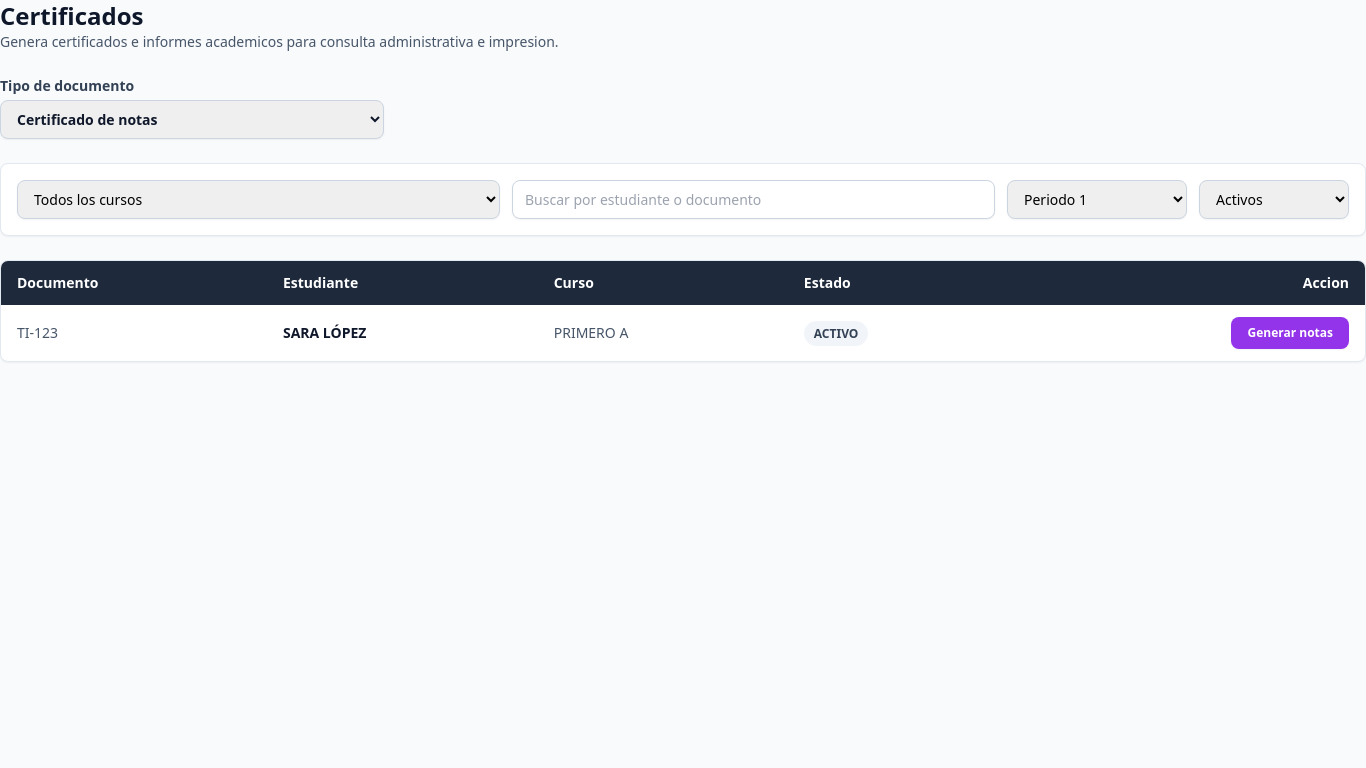
Certificados mirando otro año › el reporte parcial es de ese año; la asistencia parte de la clase, sin año
The image size is (1366, 768).
expect the text "TI-123" is shown: met, box [1,305,267,361]
Select "Reporte académico parcial" in the dropdown labelled "Tipo de documento" at (192,120), box [0,100,384,139]
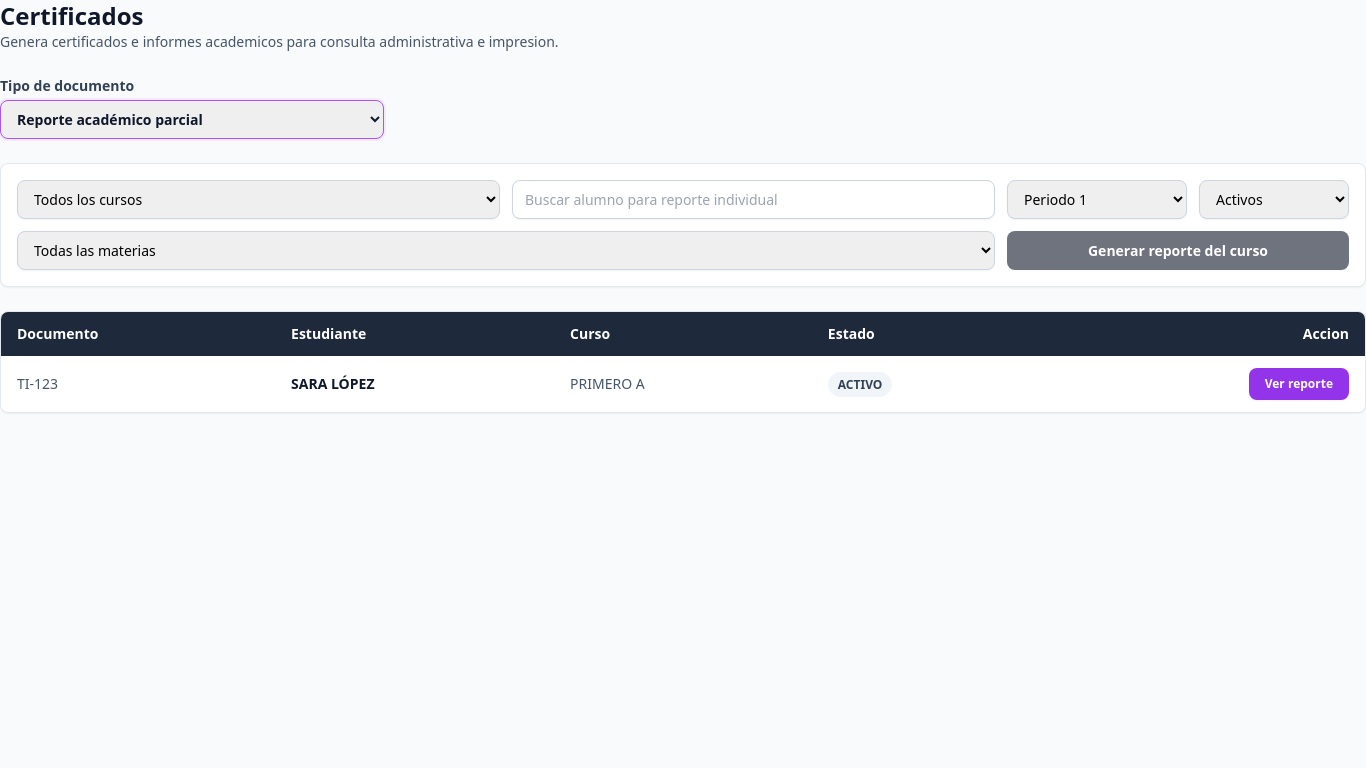
Click the button "Ver reporte" at (1299,384), box [1249,368,1349,400]
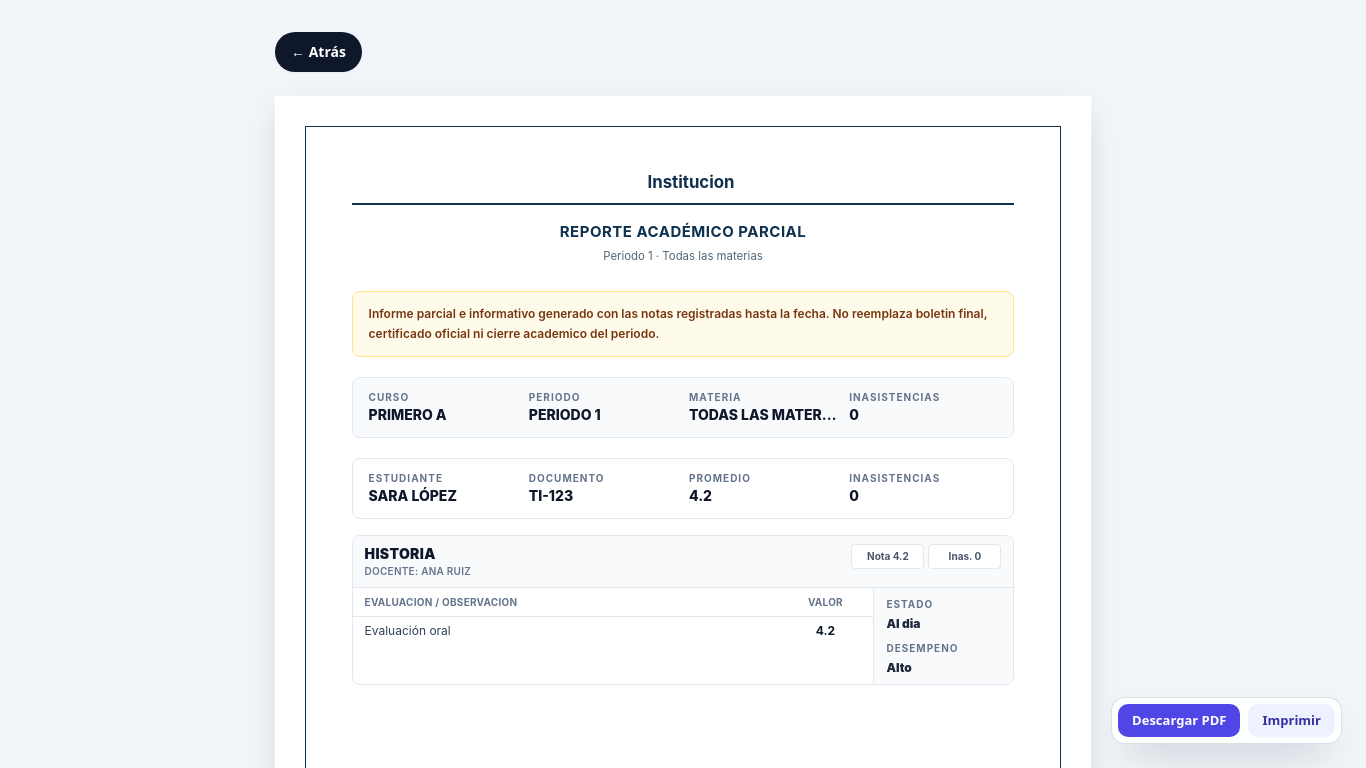
expect the text "Evaluación oral" is shown: met, box [353,616,777,645]
